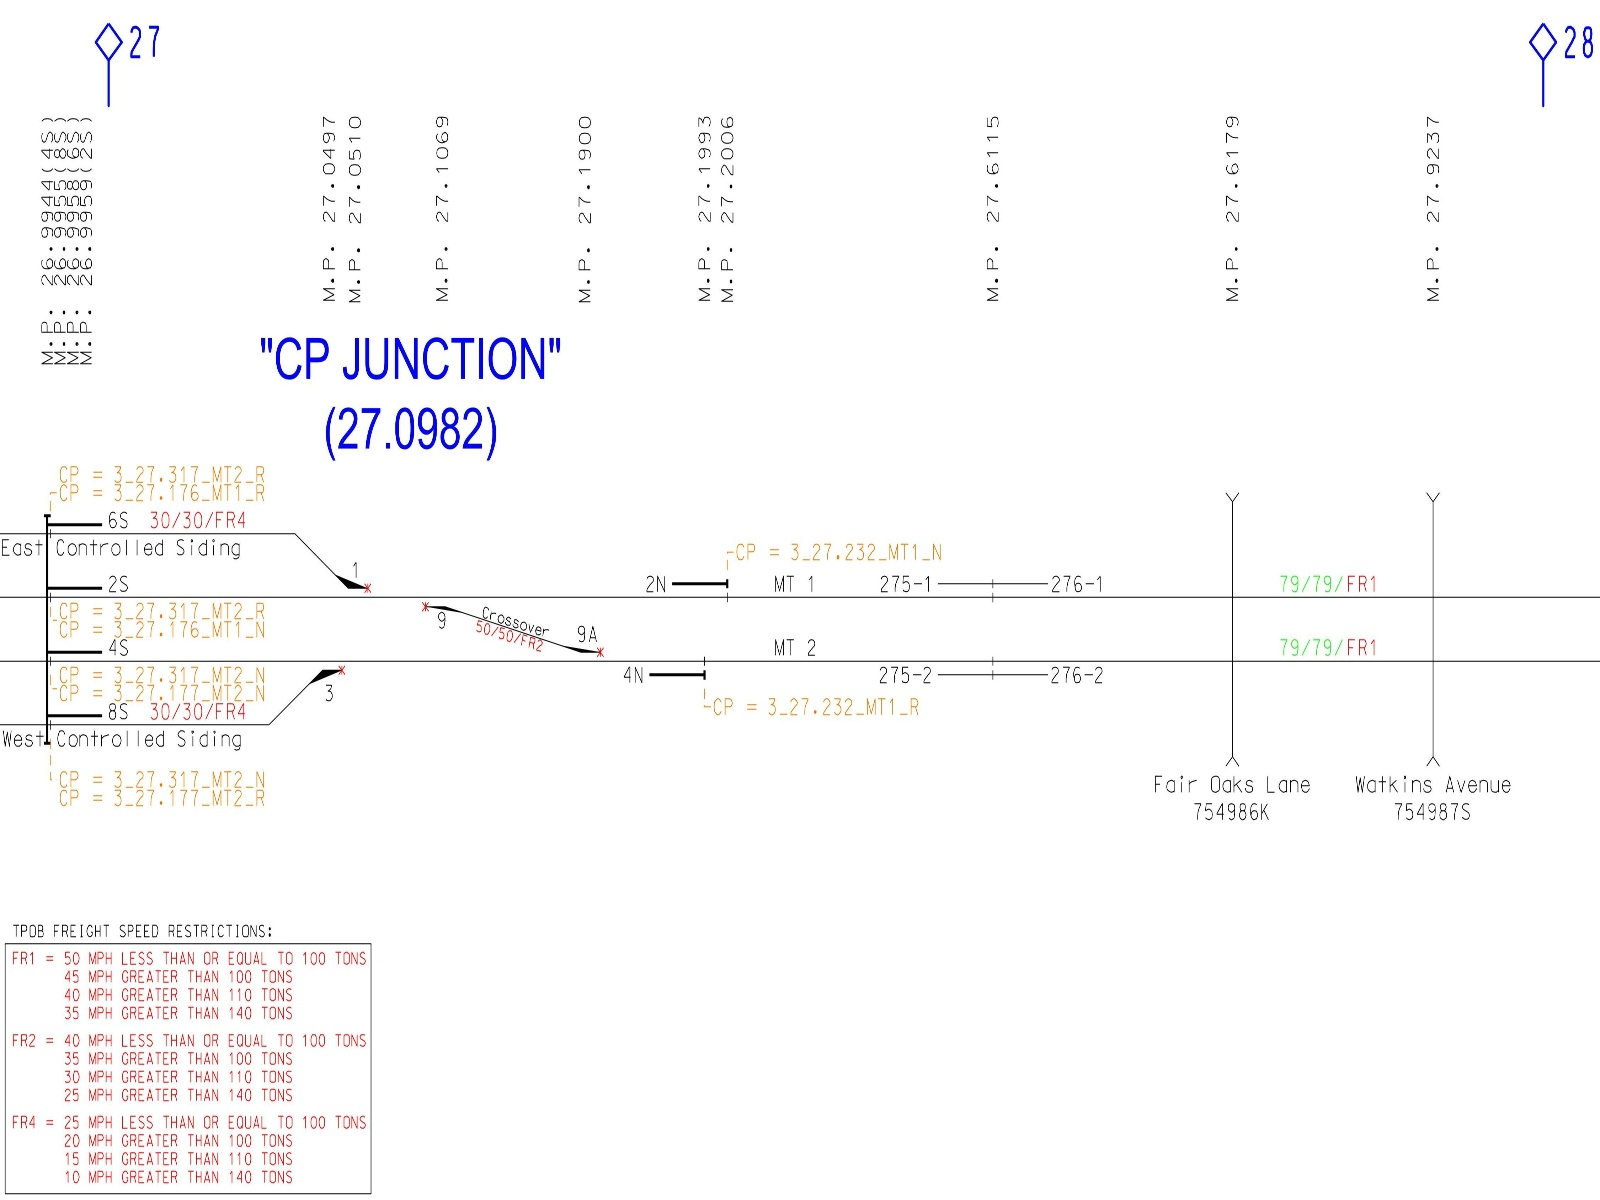controlpoint: (48, 764, 283, 814), (38, 661, 273, 711), (50, 460, 286, 511), (40, 590, 275, 640), (727, 529, 961, 575), (700, 684, 935, 730)
crossover: (1397, 478, 1471, 774), (1199, 476, 1272, 771)
crossoverLabel: (1143, 770, 1323, 834), (1342, 768, 1522, 832)
leftsignal: (33, 505, 137, 547), (33, 568, 137, 609), (33, 630, 137, 671), (31, 695, 136, 735)
milepost: (397, 108, 481, 318), (951, 105, 1036, 314), (1188, 105, 1272, 314), (1391, 108, 1475, 316), (304, 108, 387, 318), (546, 106, 629, 315), (675, 105, 758, 314)
rightsignal: (635, 568, 740, 610), (619, 655, 722, 697)
switch: (562, 616, 619, 667), (331, 556, 387, 606), (302, 658, 358, 708), (412, 589, 467, 639)
